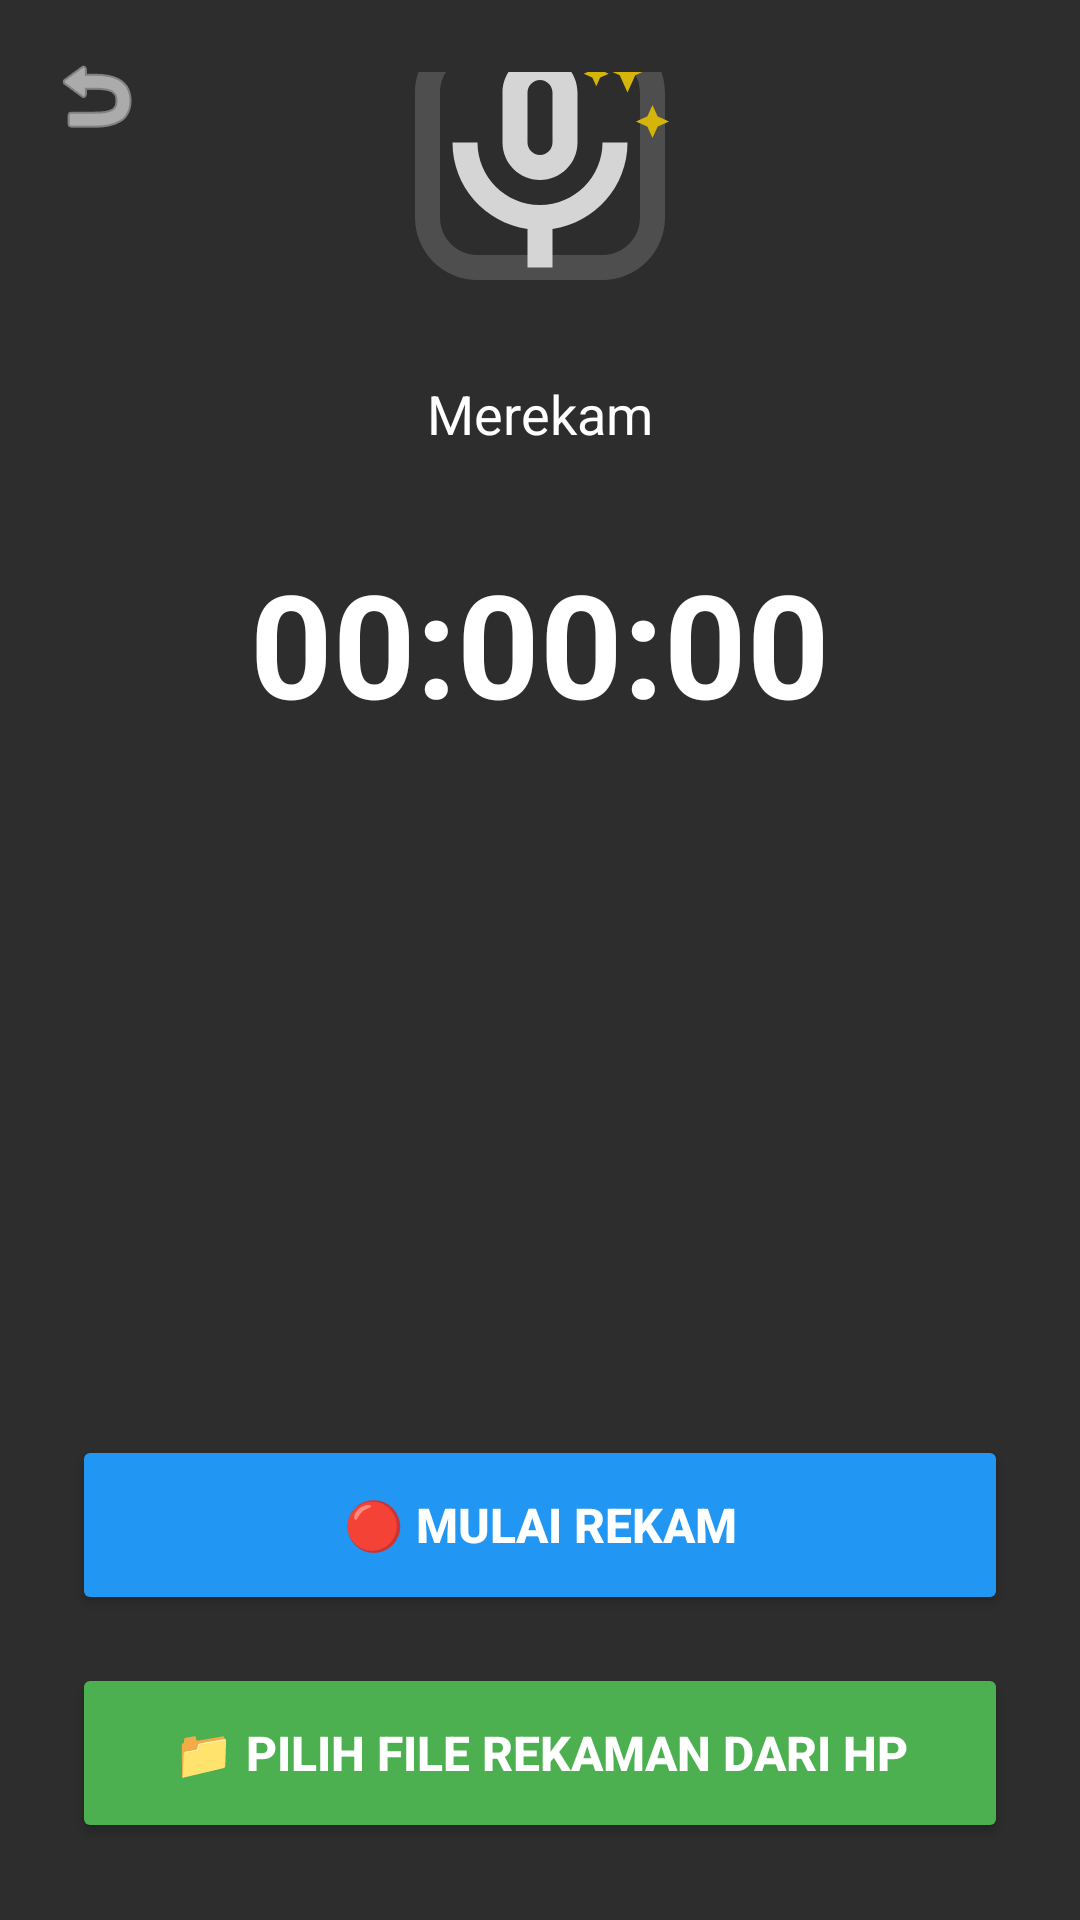

Point at icon controls on the screen. Image size 1080×1920, points as (x,y).
mic ai: (542,176)
revert: (97,96)
